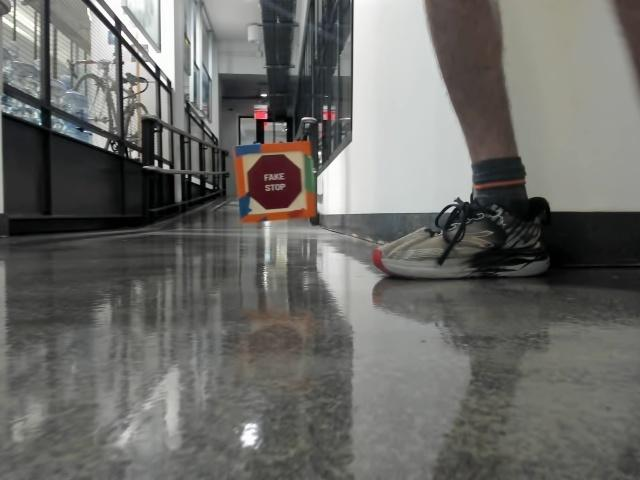Fake Stop: (245, 155, 300, 210)
